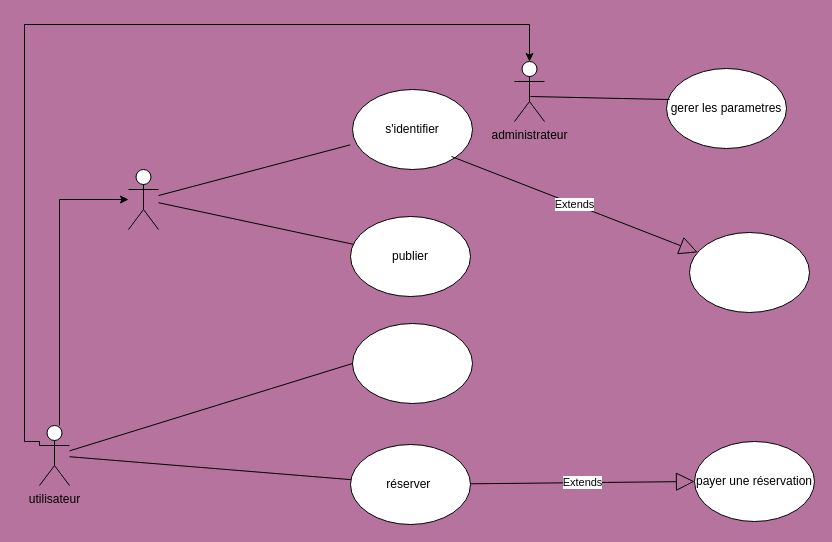
This 832x542 diagram has some shape labels left out. The shapes that lost their labels are listed below. From the top down, each one's centre as x and y in pixels, then its label:
the point at 143,199: publicateur
the point at 749,272: s'inscrire
the point at 412,363: visiter
